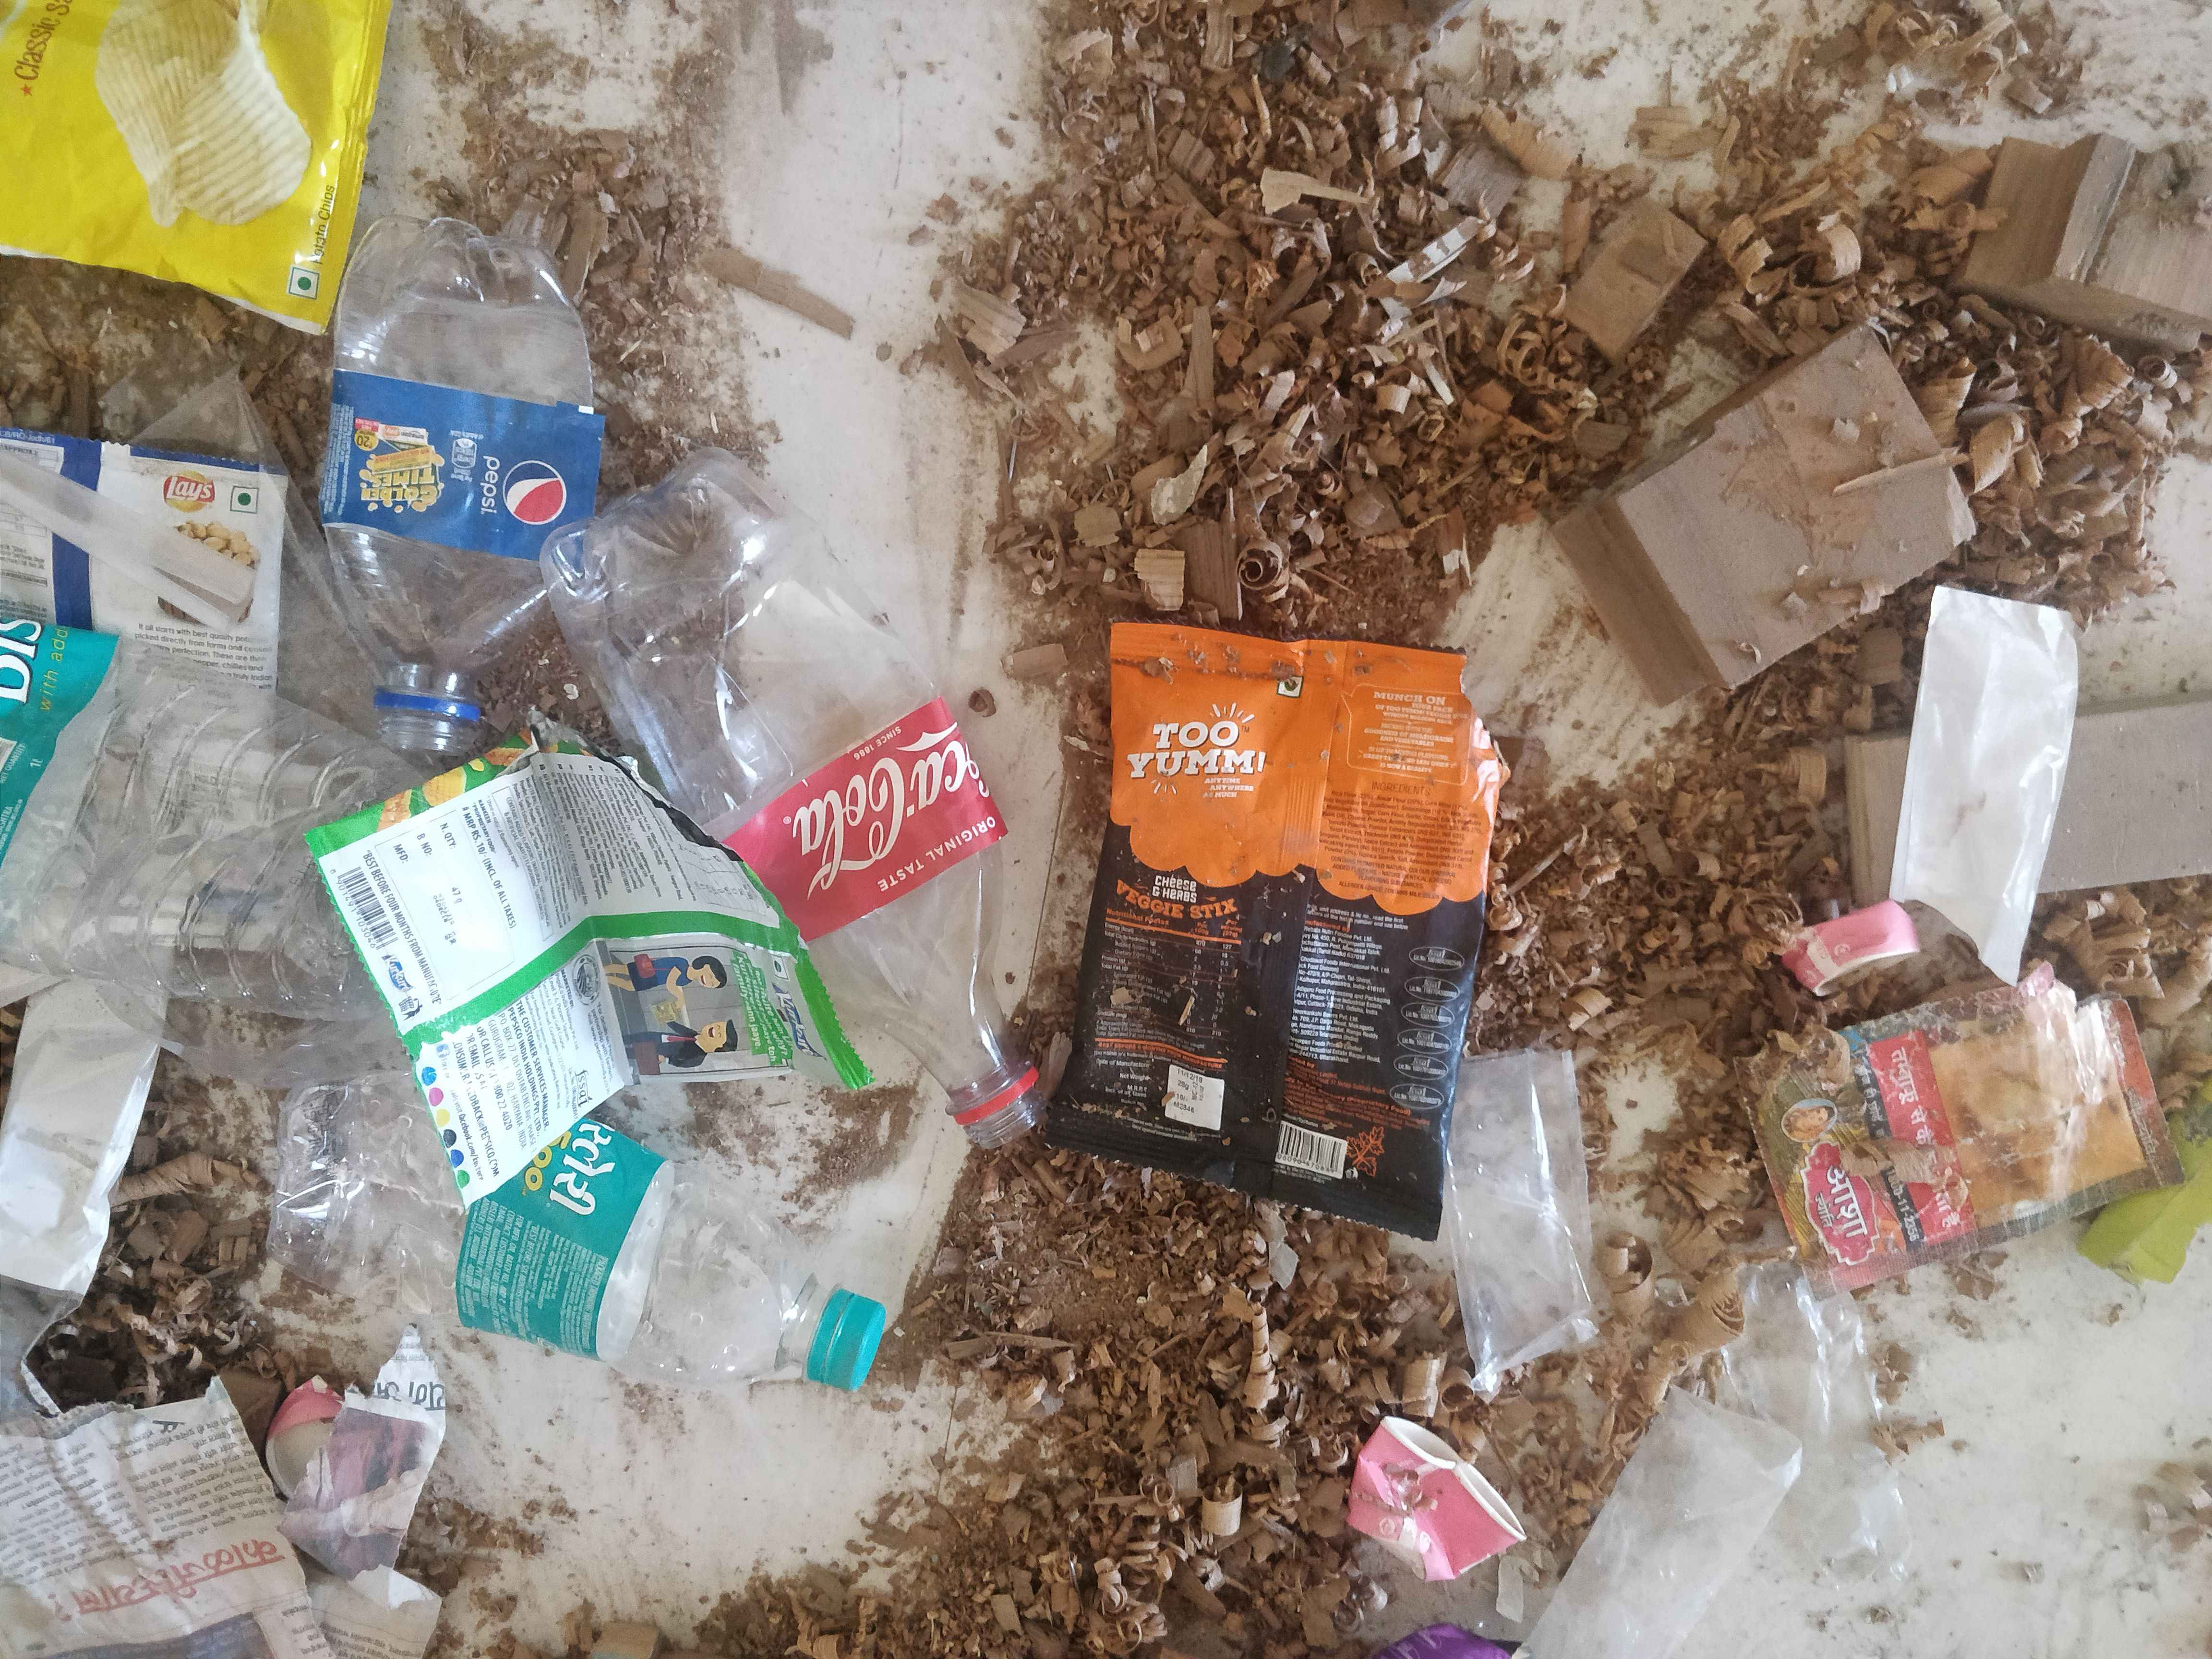Bisleri: (486, 1110, 636, 1260), (0, 615, 87, 725)
Coca-Cola: (772, 730, 995, 894)
Lays: (148, 462, 237, 525)
pepsi: (462, 439, 587, 545)
tooyumm: (1122, 688, 1271, 803)
